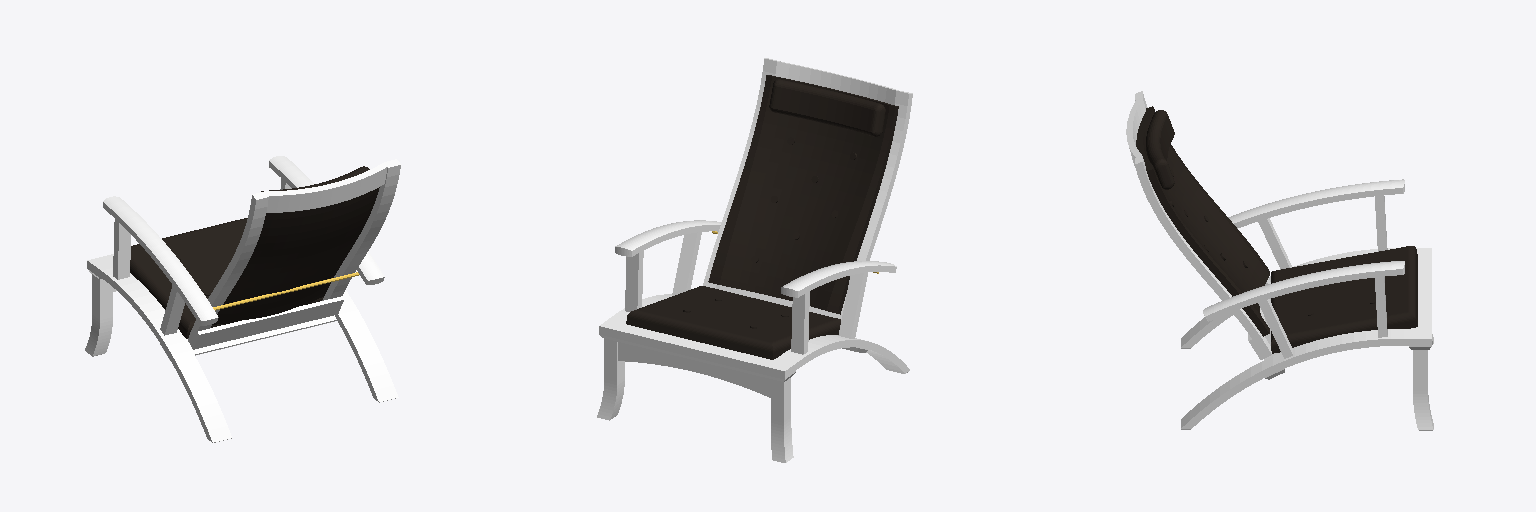
3 views of the same model, side by side, from view 1: azimuth 30°, elevation 25°; view 2: azimuth 150°, elevation 25°; view 3: azimuth 270°, elevation 25° (orthographic).
Visible parts, largest first — view 1: Component_15_ID192, Component_10_ID232, Leg_ID44, Component_7_ID124, Component_9_ID218, Leg_ID26, Component_17_ID251, Component_8_ID208, Component_8_ID182, Component_3_ID74, Component_7_ID144, Component_4_ID94 (+2 smaller); view 2: Component_15_ID192, Component_10_ID232, Component_1_ID54, Component_8_ID182, Leg_ID44, Component_2_ID64, Component_18_ID271, Component_18_ID263, Component_9_ID218, Component_3_ID74, Component_7_ID124, Component_7_ID144 (+8 smaller); view 3: Component_10_ID232, Component_15_ID192, Leg_ID26, Component_7_ID144, Component_7_ID124, Component_8_ID208, Component_3_ID84, Leg_ID44, Component_1_ID54, Component_18_ID271, Component_6_ID172, Component_18_ID263 (+4 smaller).
Boxes of the visible parts, x1,y1,x2,y2 form: Component_15_ID192: [212, 187, 379, 324]; Component_10_ID232: [130, 218, 323, 338]; Leg_ID44: [87, 256, 231, 442]; Component_7_ID124: [103, 196, 218, 325]; Component_9_ID218: [265, 162, 387, 212]; Leg_ID26: [335, 290, 398, 402]; Component_17_ID251: [191, 296, 343, 349]; Component_8_ID208: [322, 159, 400, 300]; Component_8_ID182: [188, 191, 268, 344]; Component_3_ID74: [85, 274, 112, 356]; Component_7_ID144: [269, 156, 384, 284]; Component_4_ID94: [160, 315, 336, 360]; Component_15_ID192: [708, 75, 898, 314]; Component_10_ID232: [626, 286, 840, 359]; Component_1_ID54: [599, 325, 795, 381]; Component_8_ID182: [835, 91, 912, 319]; Leg_ID44: [765, 335, 909, 377]; Component_2_ID64: [618, 342, 770, 397]; Component_18_ID271: [769, 79, 832, 123]; Component_18_ID263: [826, 91, 885, 136]; Component_9_ID218: [775, 61, 898, 104]; Component_3_ID74: [771, 378, 793, 462]; Component_7_ID124: [781, 261, 896, 297]; Component_7_ID144: [615, 220, 721, 256]; Component_10_ID232: [1271, 246, 1417, 353]; Component_15_ID192: [1136, 106, 1269, 336]; Leg_ID26: [1181, 329, 1431, 429]; Component_7_ID144: [1203, 261, 1404, 321]; Component_7_ID124: [1228, 179, 1404, 228]; Component_8_ID208: [1135, 156, 1271, 357]; Component_3_ID84: [1413, 350, 1433, 430]; Leg_ID44: [1181, 248, 1431, 348]; Component_1_ID54: [1409, 257, 1431, 349]; Component_18_ID271: [1146, 137, 1174, 189]; Component_6_ID172: [1258, 299, 1292, 358]; Component_18_ID263: [1146, 110, 1174, 157].
Bounding box in the file's own units: 0.4618 × 0.6041 × 0.6495.